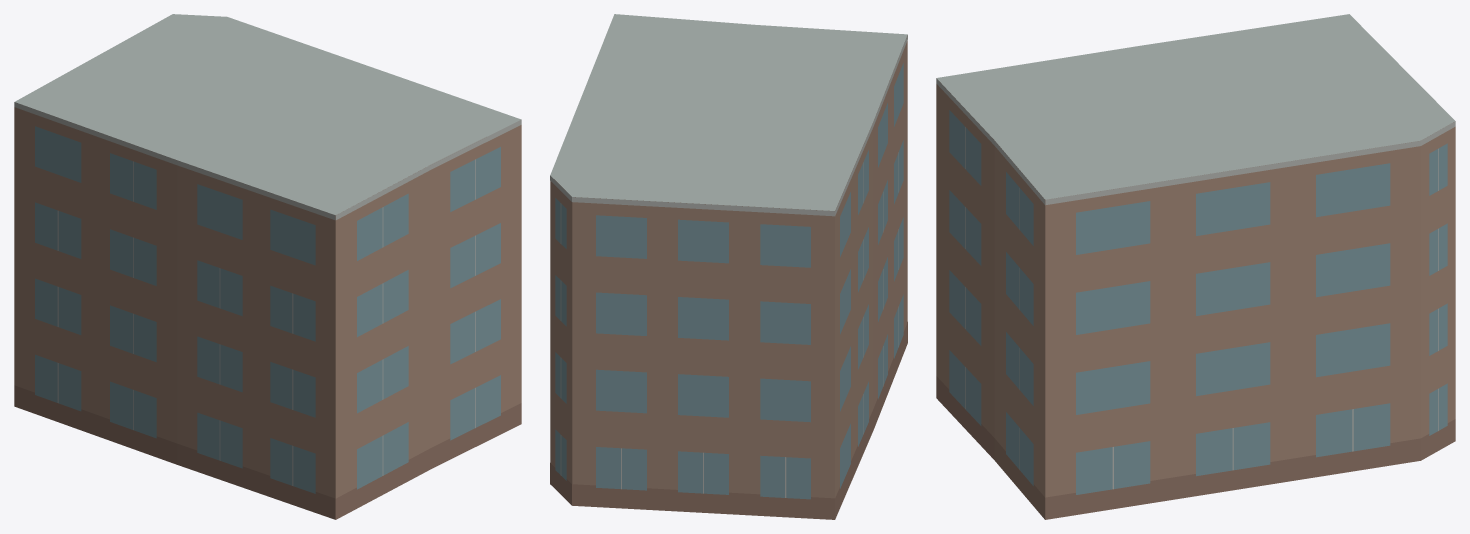
File: survey-upis-32861200.glb
The picture shows the model from 3 angles, left to right: view 1: azimuth 30°, elevation 25°; view 2: azimuth 150°, elevation 25°; view 3: azimuth 270°, elevation 25°; orthographic projection. The views are drawn at different scales.
Visible parts, largest first — view 1: survey-upis-32861200.tmp; view 2: survey-upis-32861200.tmp; view 3: survey-upis-32861200.tmp.
Part boxes in pixels (<box>): survey-upis-32861200.tmp: <box>14,14,521,519</box>; survey-upis-32861200.tmp: <box>550,14,907,519</box>; survey-upis-32861200.tmp: <box>936,14,1455,519</box>.
Bounding box in the file's own units: 17.94 × 14.4 × 21.18.
